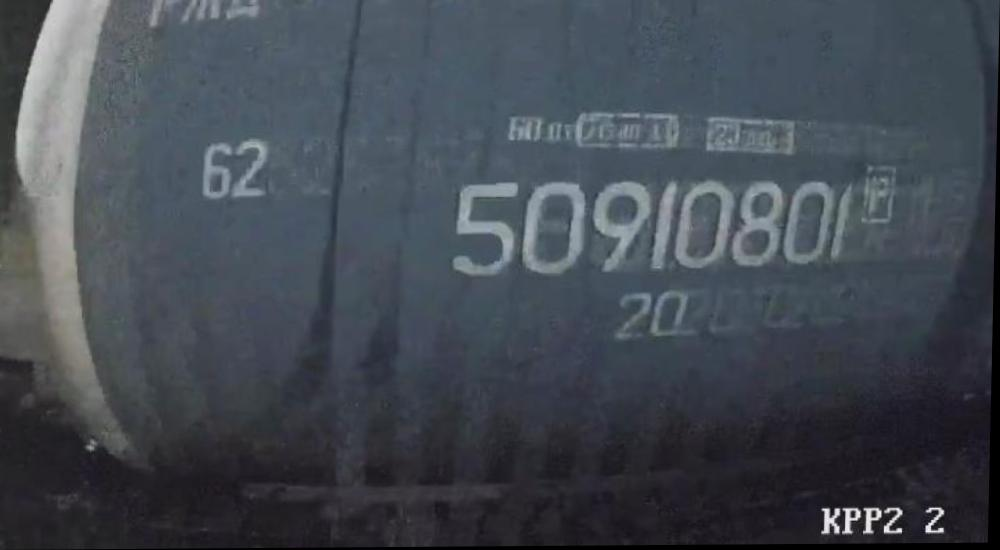Wagon-number: (446, 173, 859, 286)
